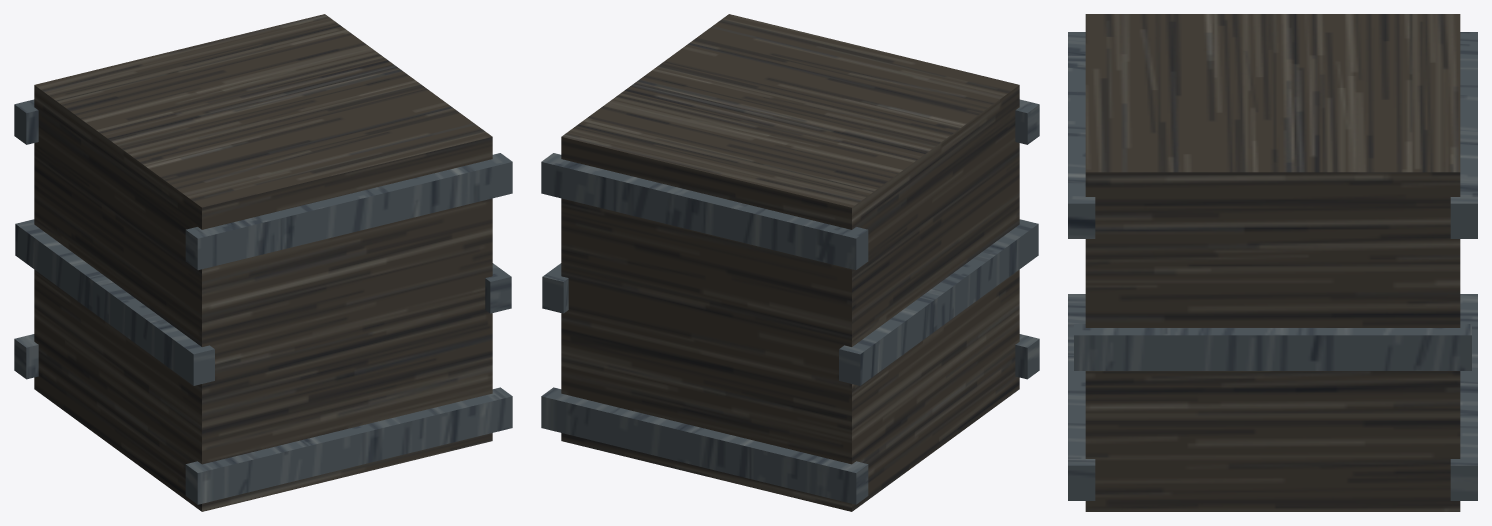
The model's file is supply-crate.glb.
3 views of the same model, side by side, from view 1: azimuth 30°, elevation 25°; view 2: azimuth 150°, elevation 25°; view 3: azimuth 270°, elevation 25° (orthographic). The views are drawn at different scales.
Visible parts, largest first — view 1: Crate, Crate strap.002, Crate strap, Crate strap.004, Crate strap.005, Crate strap.003, Crate strap.001; view 2: Crate, Crate strap.003, Crate strap.001, Crate strap.004, Crate strap.005, Crate strap.002, Crate strap; view 3: Crate, Crate strap.005, Crate strap.002, Crate strap.003, Crate strap, Crate strap.001.
Part boxes in pixels (bbox=[...]): Crate: bbox=[34, 14, 492, 511]; Crate strap.002: bbox=[185, 153, 512, 270]; Crate strap: bbox=[185, 387, 512, 504]; Crate strap.004: bbox=[15, 219, 214, 385]; Crate strap.005: bbox=[485, 263, 511, 313]; Crate strap.003: bbox=[14, 99, 38, 144]; Crate strap.001: bbox=[14, 334, 38, 379]; Crate: bbox=[561, 14, 1019, 511]; Crate strap.003: bbox=[541, 153, 868, 270]; Crate strap.001: bbox=[541, 387, 868, 504]; Crate strap.004: bbox=[839, 219, 1038, 385]; Crate strap.005: bbox=[542, 263, 568, 313]; Crate strap.002: bbox=[1015, 99, 1039, 144]; Crate strap: bbox=[1015, 334, 1039, 379]; Crate: bbox=[1085, 14, 1460, 511]; Crate strap.005: bbox=[1074, 324, 1471, 370]; Crate strap.002: bbox=[1068, 32, 1095, 238]; Crate strap.003: bbox=[1450, 32, 1477, 238]; Crate strap: bbox=[1068, 294, 1095, 500]; Crate strap.001: bbox=[1450, 294, 1477, 500].
Bounding box in the file's own units: 1.05 × 0.96 × 1.05.
Materials: 2 (2 with a texture image).
